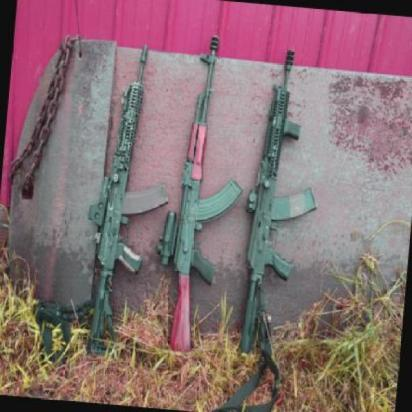Gun: (234, 33, 338, 368), (154, 31, 248, 366), (89, 39, 176, 348)
